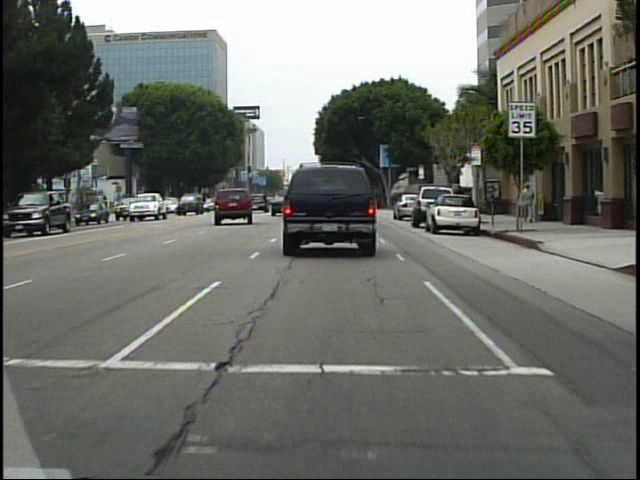person: (519, 180, 539, 228), (451, 183, 467, 219)
